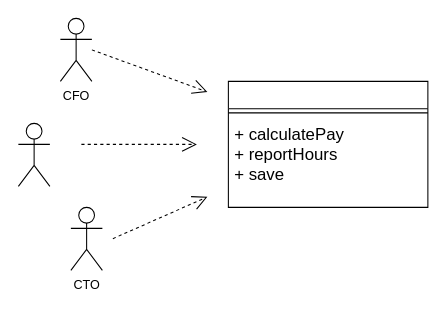
The diagram is 446 pixels wide and 311 high, and some of its shapes have lost their labels. Each missing label, with the box of its shape:
COO: (17, 122, 50, 186)
Employee: (227, 80, 428, 207)
